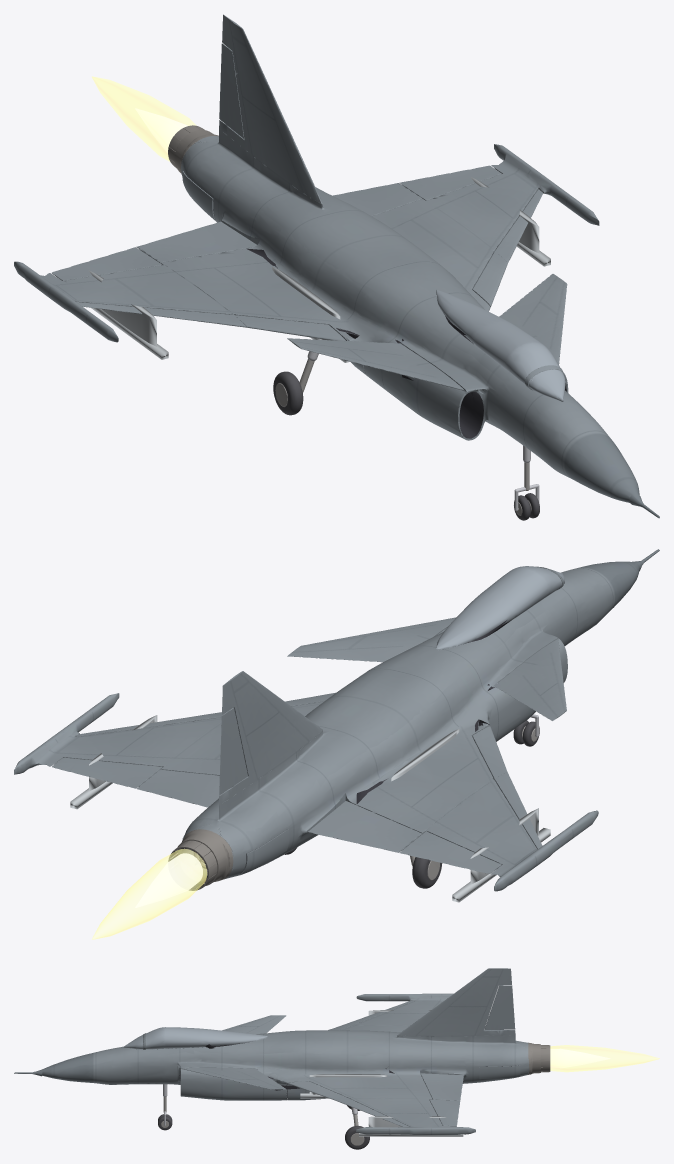
File: gripen.glb
3 renders of one model, top to bottom at view 1: azimuth 30°, elevation 25°; view 2: azimuth 150°, elevation 25°; view 3: azimuth 270°, elevation 25°, orthographic. The views are drawn at different scales.
Parts seen in each view (by area): view 1: fsim:section:nose, fsim:section:centre, fsim:section:tail, fsim:section:right-wing, fsim:section:left-wing, fsim:elevator@-20,50 (×2), fsim:lef@-3,25 (×2), fsim:elevator+aileron:-1@-25,25 (×2), fsim:afterburner:0, fsim:elevator+aileron:1@-25,25 (×2), fsim:station:7, fsim:rudder (+2 smaller); view 2: fsim:section:tail, fsim:section:centre, fsim:section:right-wing, fsim:section:nose, fsim:section:left-wing, fsim:elevator@-20,50 (×2), fsim:elevator+aileron:-1@-25,25 (×2), fsim:afterburner:0, fsim:elevator+aileron:1@-25,25 (×2), fsim:lef@-3,25 (×2), fsim:rudder, fsim:station:7 (+4 smaller); view 3: fsim:section:tail, fsim:section:centre, fsim:section:nose, fsim:section:left-wing, fsim:afterburner:0, fsim:section:right-wing, fsim:elevator@-20,50 (×2), fsim:elevator+aileron:1@-25,25 (×2), fsim:lef@-3,25 (×2), fsim:rudder, fsim:station:2, fsim:speedbrake:0.872665 (+2 smaller).
Part boxes in pixels (left/top/right/bottom): fsim:section:nose: left=383, top=297, right=659, bottom=518; fsim:section:centre: left=87, top=196, right=599, bottom=425; fsim:section:tail: left=14, top=14, right=575, bottom=326; fsim:section:right-wing: left=28, top=248, right=380, bottom=383; fsim:section:left-wing: left=372, top=150, right=551, bottom=311; fsim:elevator@-20,50 (×2): left=287, top=274, right=567, bottom=390; fsim:lef@-3,25 (×2): left=77, top=189, right=543, bottom=340; fsim:elevator+aileron:-1@-25,25 (×2): left=52, top=221, right=256, bottom=280; fsim:afterburner:0: left=92, top=76, right=196, bottom=161; fsim:elevator+aileron:1@-25,25 (×2): left=333, top=165, right=501, bottom=216; fsim:station:7: left=88, top=270, right=168, bottom=359; fsim:rudder: left=219, top=43, right=244, bottom=138; fsim:section:tail: left=14, top=671, right=579, bottom=891; fsim:section:centre: left=89, top=599, right=598, bottom=837; fsim:section:right-wing: left=356, top=708, right=551, bottom=876; fsim:section:nose: left=437, top=549, right=659, bottom=717; fsim:section:left-wing: left=27, top=701, right=323, bottom=775; fsim:elevator@-20,50 (×2): left=287, top=617, right=566, bottom=720; fsim:elevator+aileron:-1@-25,25 (×2): left=308, top=801, right=501, bottom=873; fsim:afterburner:0: left=92, top=849, right=207, bottom=939; fsim:elevator+aileron:1@-25,25 (×2): left=52, top=757, right=222, bottom=807; fsim:lef@-3,25 (×2): left=76, top=692, right=542, bottom=849; fsim:rudder: left=219, top=707, right=247, bottom=795; fsim:station:7: left=452, top=808, right=550, bottom=902; fsim:section:tail: left=380, top=968, right=540, bottom=1134; fsim:section:centre: left=203, top=994, right=390, bottom=1134; fsim:section:nose: left=14, top=1027, right=271, bottom=1098; fsim:section:left-wing: left=269, top=1073, right=459, bottom=1127; fsim:afterburner:0: left=550, top=1045, right=659, bottom=1072; fsim:section:right-wing: left=340, top=993, right=453, bottom=1032; fsim:elevator@-20,50 (×2): left=183, top=1015, right=286, bottom=1089; fsim:elevator+aileron:1@-25,25 (×2): left=420, top=1073, right=463, bottom=1126; fsim:lef@-3,25 (×2): left=288, top=1000, right=414, bottom=1126; fsim:rudder: left=484, top=985, right=515, bottom=1029; fsim:station:2: left=359, top=1116, right=463, bottom=1136; fsim:speedbrake:0.872665: left=479, top=1065, right=520, bottom=1079.
Size of the model in its own units: 8.42 by 4.67 by 16.96.
Materials: 13 (1 with a texture image).
